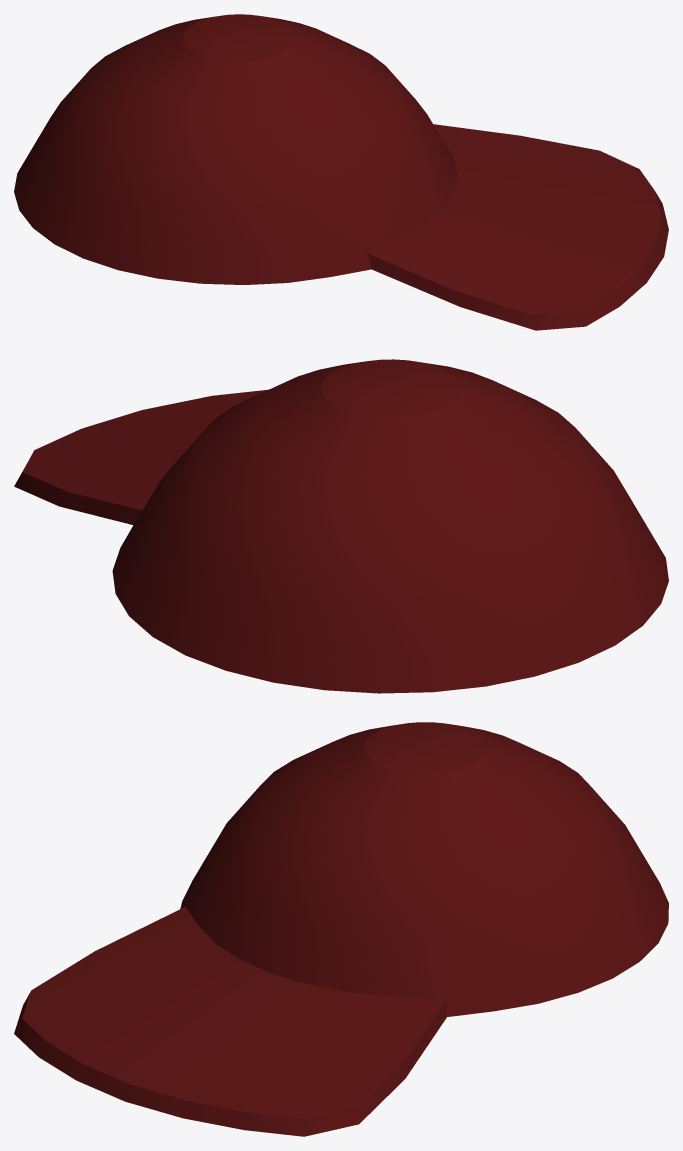
The model's file is hat.FBX.
The picture shows the model from 3 angles, top to bottom: view 1: azimuth 30°, elevation 25°; view 2: azimuth 150°, elevation 25°; view 3: azimuth 270°, elevation 25°; orthographic projection. The views are drawn at different scales.
Parts seen in each view (by area): view 1: hat001; view 2: hat001; view 3: hat001.
Boxes of the visible parts, x1,y1,x2,y2 form: hat001: (14, 14, 668, 330); hat001: (14, 359, 668, 693); hat001: (14, 722, 668, 1136).
Bounding box in the file's own units: 82.22 × 27.89 × 78.88.
